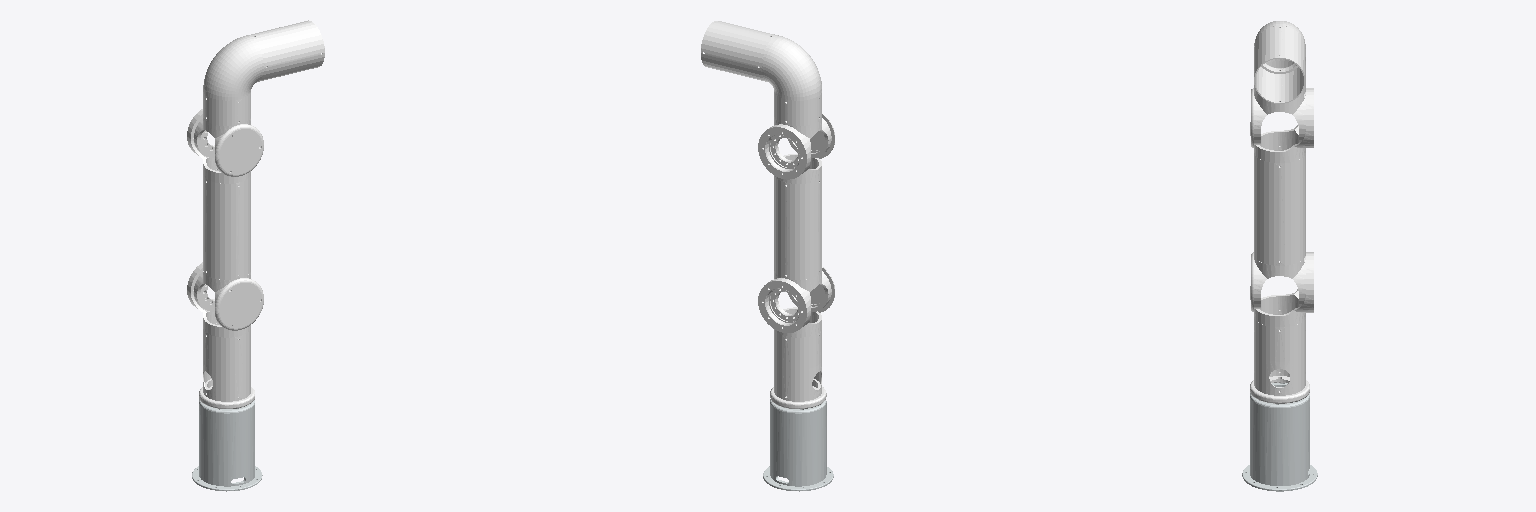
URDF robot description (rigid_arm_3dof):
<?xml version="1.0" encoding="utf-8"?>
<!-- This URDF was automatically created by SolidWorks to URDF Exporter! Originally created by [author] ([email redacted]) 
     Commit Version: 1.6.0-4-g7f85cfe  Build Version: 1.6.7995.38578
     For more information, please see http://wiki.ros.org/sw_urdf_exporter -->
<robot
  name="rigid_arm_3dof">
  <link
    name="base_link">
    <inertial>
      <origin
        xyz="-5.4434E-06 -1.6107E-05 0.070835"
        rpy="0 0 0" />
      <mass
        value="0.36812" />
      <inertia
        ixx="0.00039637"
        ixy="4.0719E-08"
        ixz="5.8242E-08"
        iyy="0.00039828"
        iyz="-4.7521E-08"
        izz="0.00035015" />
    </inertial>
    <visual>
      <origin
        xyz="0 0 0"
        rpy="0 0 0" />
      <geometry>
        <mesh
          filename="package://rigid_arm_3dof/meshes/base_link.STL" />
      </geometry>
      <material
        name="">
        <color
          rgba="0.89804 0.92157 0.92941 1" />
      </material>
    </visual>
    <collision>
      <origin
        xyz="0 0 0"
        rpy="0 0 0" />
      <geometry>
        <mesh
          filename="package://rigid_arm_3dof/meshes/base_link.STL" />
      </geometry>
    </collision>
  </link>
  <link
    name="rigid2_link">
    <inertial>
      <origin
        xyz="0.056536 -0.00014668 0.13062"
        rpy="0 0 0" />
      <mass
        value="0.33473" />
      <inertia
        ixx="0.00026259"
        ixy="-7.6647E-08"
        ixz="-1.9418E-05"
        iyy="0.00021199"
        iyz="2.1531E-07"
        izz="0.00021004" />
    </inertial>
    <visual>
      <origin
        xyz="0 0 0"
        rpy="0 0 0" />
      <geometry>
        <mesh
          filename="package://rigid_arm_3dof/meshes/rigid2_link.STL" />
      </geometry>
      <material
        name="">
        <color
          rgba="1 1 1 1" />
      </material>
    </visual>
    <collision>
      <origin
        xyz="0 0 0"
        rpy="0 0 0" />
      <geometry>
        <mesh
          filename="package://rigid_arm_3dof/meshes/rigid2_link.STL" />
      </geometry>
    </collision>
  </link>
  <joint
    name="q1"
    type="revolute">
    <origin
      xyz="0 0 0.1225"
      rpy="0 0 1.570796" />
    <parent
      link="base_link" />
    <child
      link="rigid2_link" />
    <axis
      xyz="0 0 1" />
    <limit
      lower="-3.14"
      upper="3.14"
      effort="0"
      velocity="1" />
  </joint>
  <link
    name="rigid3_link">
    <inertial>
      <origin
        xyz="0.047251 -0.00012239 0.17802"
        rpy="0 0 0" />
      <mass
        value="0.38739" />
      <inertia
        ixx="0.00038968"
        ixy="-8.78E-08"
        ixz="-1.5284E-05"
        iyy="0.00033465"
        iyz="2.0369E-07"
        izz="0.00025731" />
    </inertial>
    <visual>
      <origin
        xyz="0 0 0"
        rpy="0 0 0" />
      <geometry>
        <mesh
          filename="package://rigid_arm_3dof/meshes/rigid3_link.STL" />
      </geometry>
      <material
        name="">
        <color
          rgba="1 1 1 1" />
      </material>
    </visual>
    <collision>
      <origin
        xyz="0 0 0"
        rpy="0 0 0" />
      <geometry>
        <mesh
          filename="package://rigid_arm_3dof/meshes/rigid3_link.STL" />
      </geometry>
    </collision>
  </link>
  <joint
    name="q2"
    type="revolute">
    <origin
      xyz="0 0 0.16"
      rpy="0 0 0" />
    <parent
      link="rigid2_link" />
    <child
      link="rigid3_link" />
    <axis
      xyz="-1 0.0026917 0" />
    <limit
      lower="-1.57"
      upper="1.57"
      effort="0"
      velocity="1" />
  </joint>
  <link
    name="rigid4_link">
    <inertial>
      <origin
        xyz="-0.0033885 -0.018502 0.068114"
        rpy="0 0 0" />
      <mass
        value="0.18568" />
      <inertia
        ixx="0.00019735"
        ixy="-3.365E-08"
        ixz="4.1629E-06"
        iyy="0.00018459"
        iyz="1.0769E-05"
        izz="0.00019464" />
    </inertial>
    <visual>
      <origin
        xyz="0 0 0"
        rpy="0 0 0" />
      <geometry>
        <mesh
          filename="package://rigid_arm_3dof/meshes/rigid4_link.STL" />
      </geometry>
      <material
        name="">
        <color
          rgba="1 1 1 1" />
      </material>
    </visual>
    <collision>
      <origin
        xyz="0 0 0"
        rpy="0 0 0" />
      <geometry>
        <mesh
          filename="package://rigid_arm_3dof/meshes/rigid4_link.STL" />
      </geometry>
    </collision>
  </link>
  <joint
    name="q3"
    type="revolute">
    <origin
      xyz="0 0 0.24"
      rpy="0 0 0" />
    <parent
      link="rigid3_link" />
    <child
      link="rigid4_link" />
    <axis
      xyz="-1 0.0026917 0" />
    <limit
      lower="-1.57"
      upper="1.57"
      effort="0"
      velocity="1" />
  </joint>
</robot>

--- Facts derived from the render (not from the file) ---
3 views of the same robot in one strip: view 1: azimuth 30°, elevation 25°; view 2: azimuth 150°, elevation 25°; view 3: azimuth 270°, elevation 25° (orthographic).
Robot: rigid_arm_3dof — 4 links, 3 joints (3 revolute); root link base_link; default pose: every joint at zero.
Visible links, largest first — view 1: rigid4_link, rigid3_link, base_link, rigid2_link; view 2: rigid4_link, rigid3_link, rigid2_link, base_link; view 3: rigid3_link, rigid2_link, base_link, rigid4_link.
Link boxes in pixels (x1,y1,x2,y2): rigid4_link: [194, 20, 324, 176]; rigid3_link: [187, 109, 263, 330]; base_link: [192, 399, 262, 491]; rigid2_link: [187, 262, 254, 408]; rigid4_link: [701, 21, 834, 168]; rigid3_link: [758, 124, 834, 322]; rigid2_link: [758, 278, 826, 408]; base_link: [763, 399, 833, 491]; rigid3_link: [1250, 88, 1313, 311]; rigid2_link: [1250, 252, 1313, 403]; base_link: [1242, 383, 1317, 491]; rigid4_link: [1250, 21, 1305, 147].
Bounding box of the posed robot: 0.1901 × 0.1 × 0.6765 m (x, y, z).
Meshes: 4 distinct files referenced, 4 mesh visuals loaded (4 binary STL).